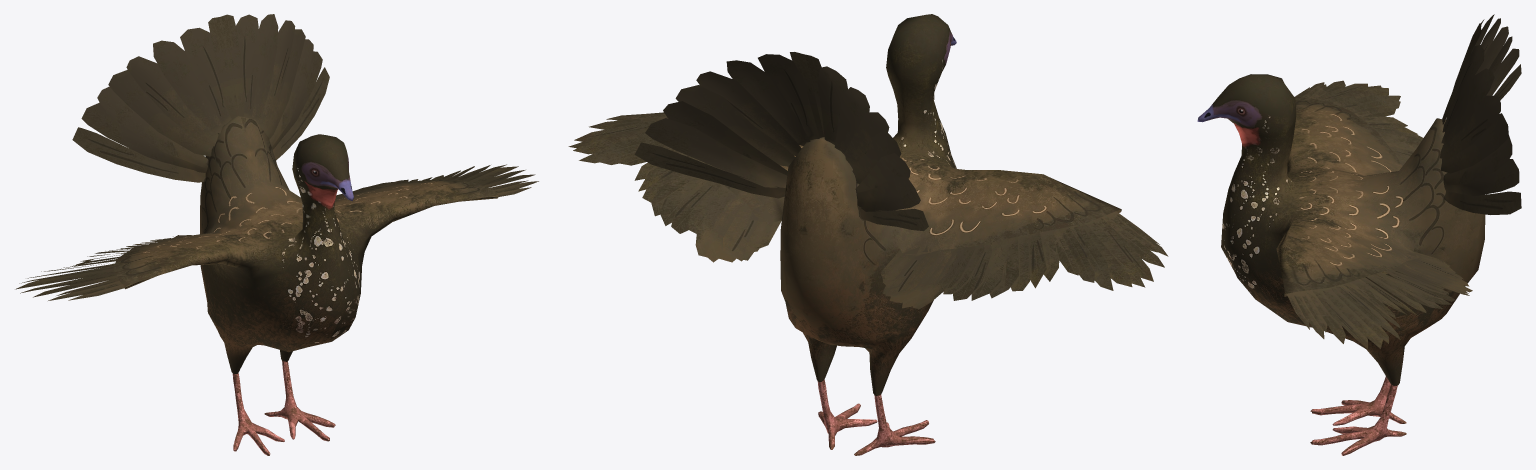
The model's file is Pava_PBR.glb.
3 renders of one model, left to right at view 1: azimuth 30°, elevation 25°; view 2: azimuth 150°, elevation 25°; view 3: azimuth 270°, elevation 25°, orthographic. The views are drawn at different scales.
Visible parts, largest first — view 1: Pava_MAIN_Geo; view 2: Pava_MAIN_Geo; view 3: Pava_MAIN_Geo.
Boxes of the visible parts, x1,y1,x2,y2 form: Pava_MAIN_Geo: (15, 14, 538, 455); Pava_MAIN_Geo: (568, 14, 1168, 455); Pava_MAIN_Geo: (1197, 14, 1521, 455).
Bounding box in the file's own units: 14.32 × 10.13 × 7.39.
Materials: 1 (1 with a texture image).
